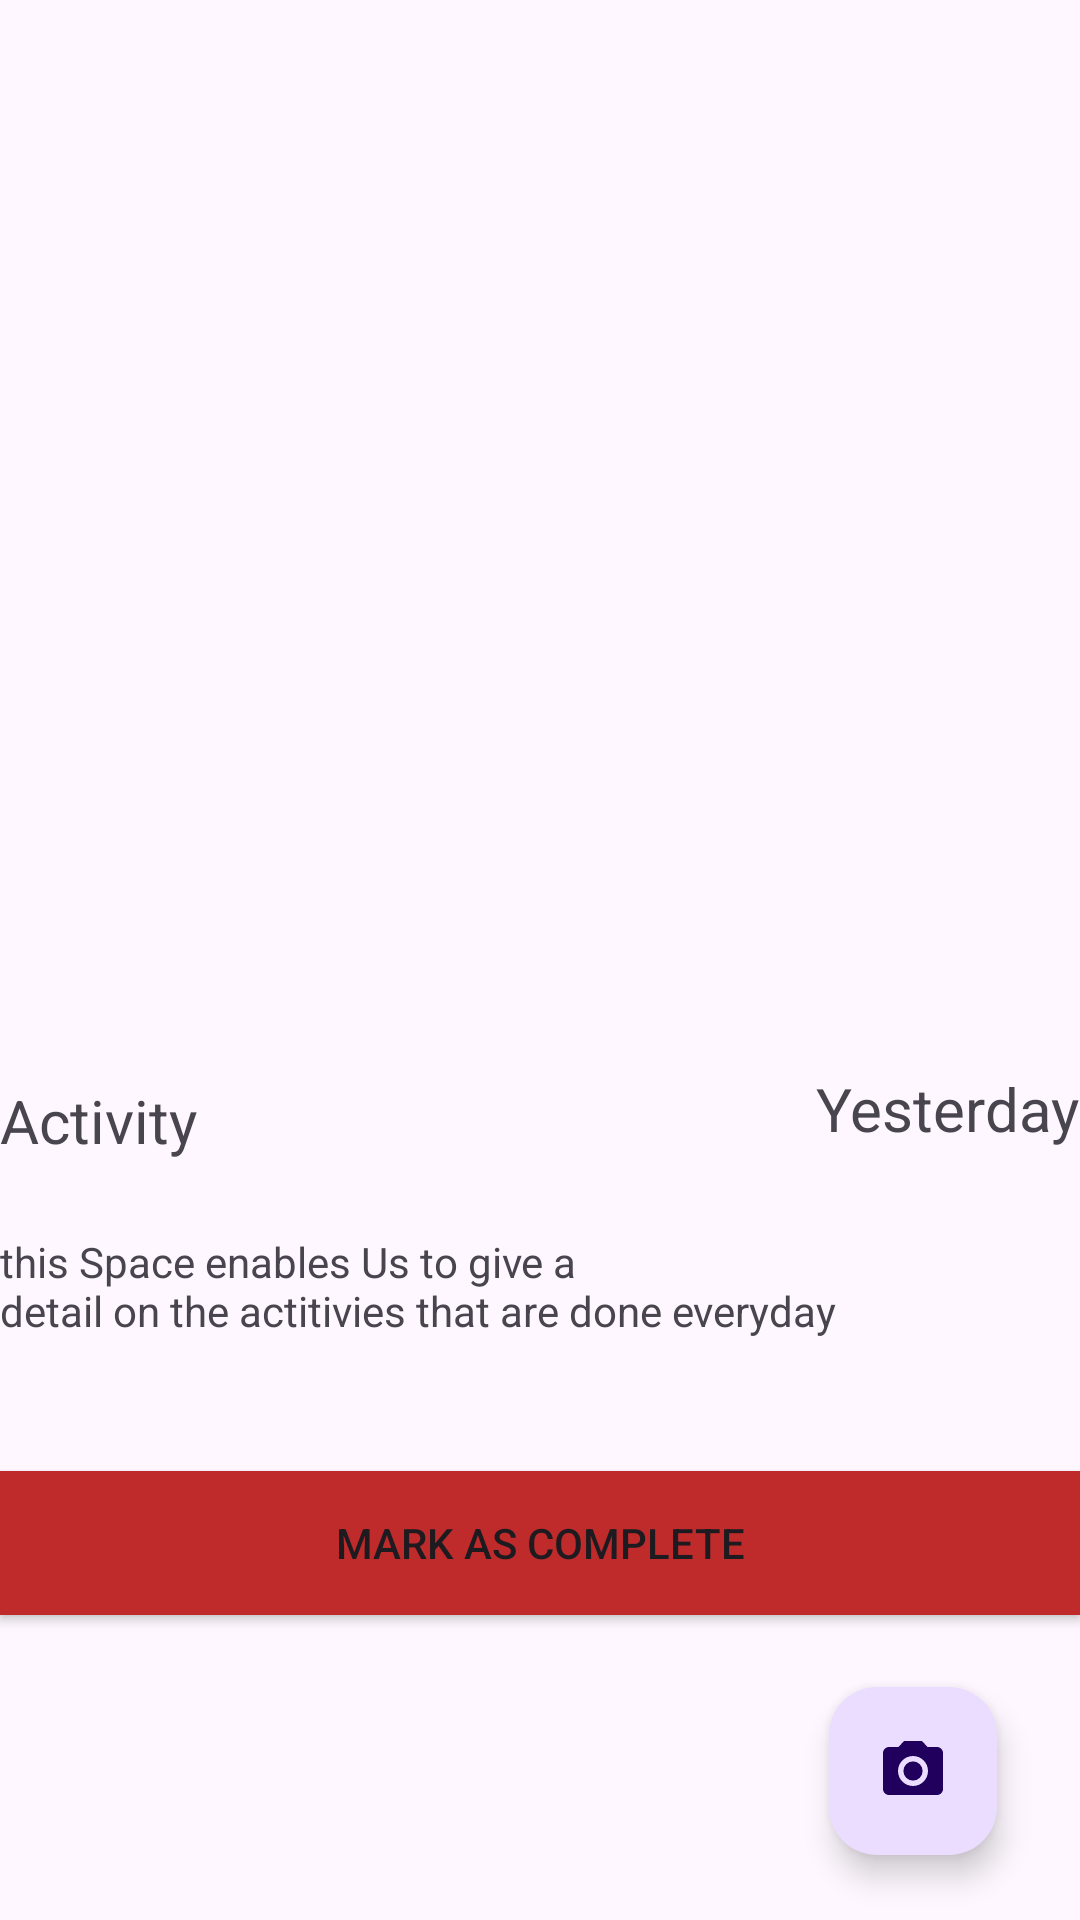

Where icons sit on this 1080px×1920px app screen, as region(x1, y1, x2, y2):
photo camera: region(829, 1687, 997, 1855)
